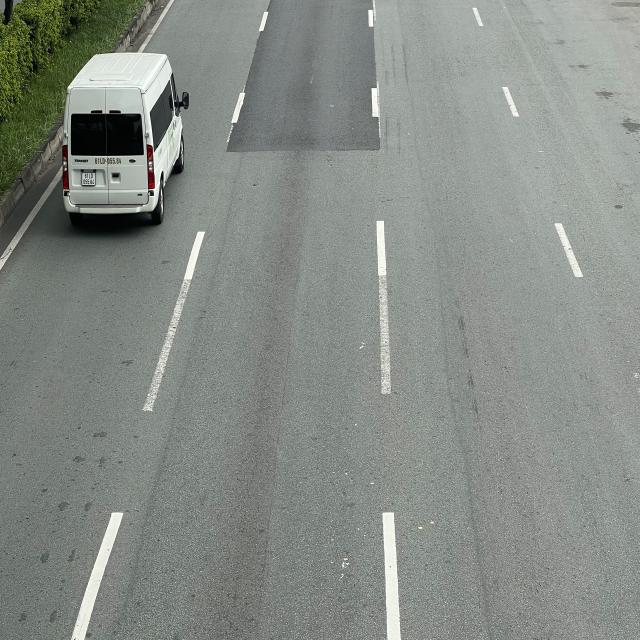van: (62, 53, 189, 222)
